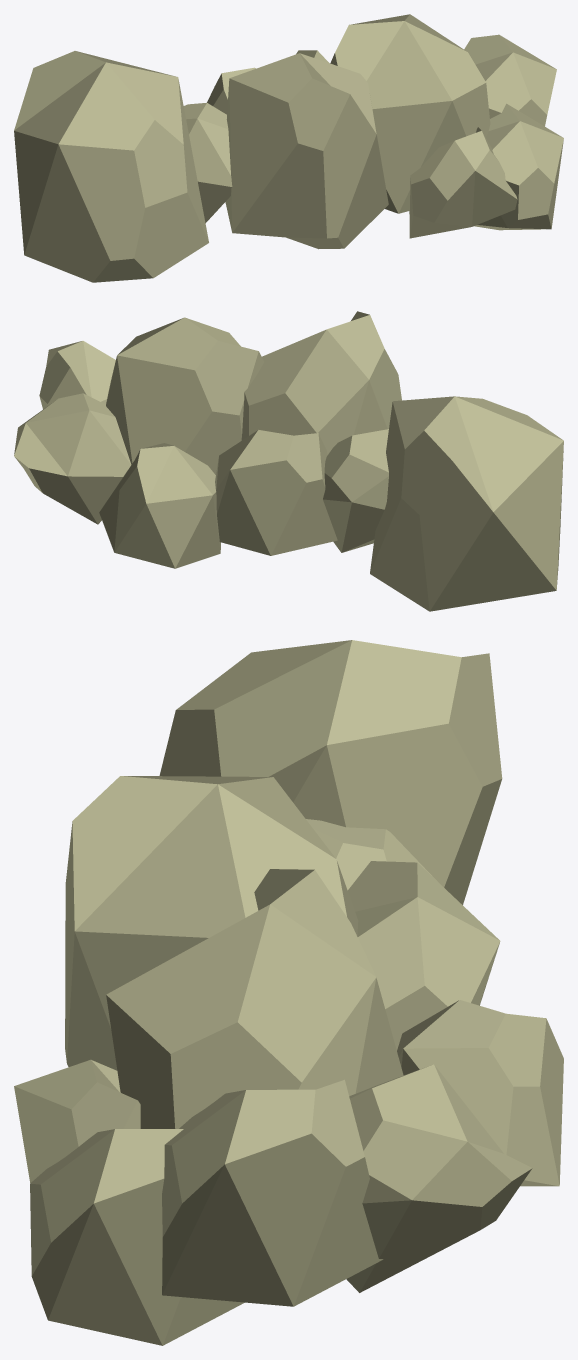
Rendered from rock.glb.
The picture shows the model from 3 angles, top to bottom: view 1: azimuth 30°, elevation 25°; view 2: azimuth 150°, elevation 25°; view 3: azimuth 270°, elevation 25°; orthographic projection. The views are drawn at different scales.
Parts seen in each view (by area): view 1: rocks.008; view 2: rocks.008; view 3: rocks.008.
Part boxes in pixels (box(x1,y1,x2,y2)): rocks.008: box(14, 14, 563, 282); rocks.008: box(14, 311, 563, 611); rocks.008: box(14, 640, 563, 1345).
Bounding box in the file's own units: 2.71 × 1.08 × 1.4.
